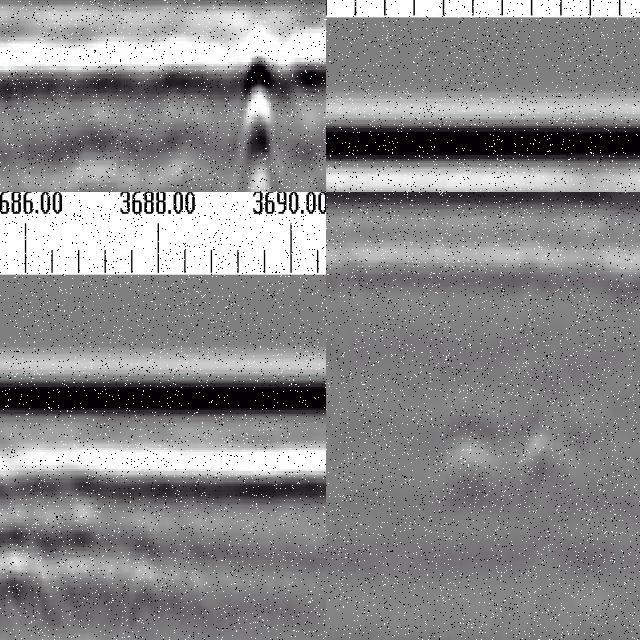crack: (235, 22, 277, 193)
loose: (1, 508, 186, 637), (436, 416, 590, 521)
